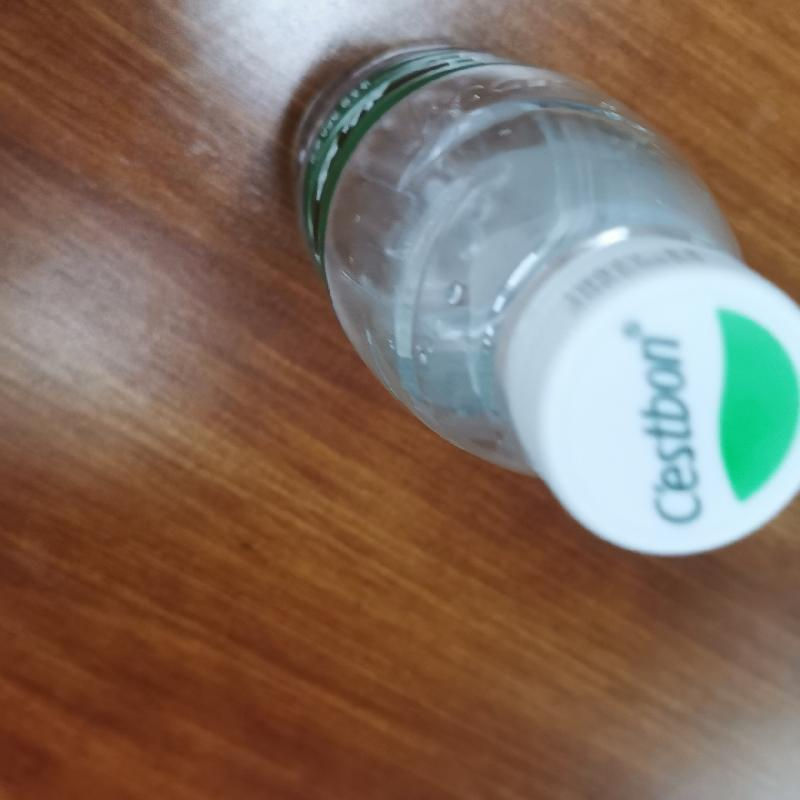bottles: (293, 35, 800, 568)
